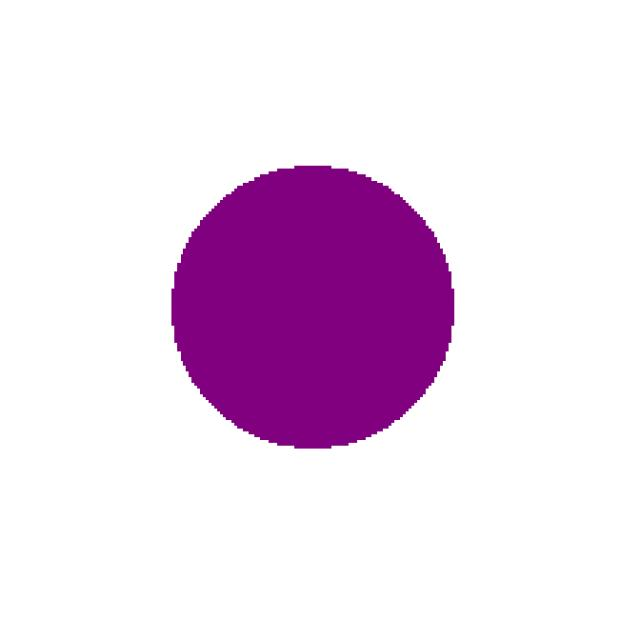Circle: (124, 154, 527, 479)
